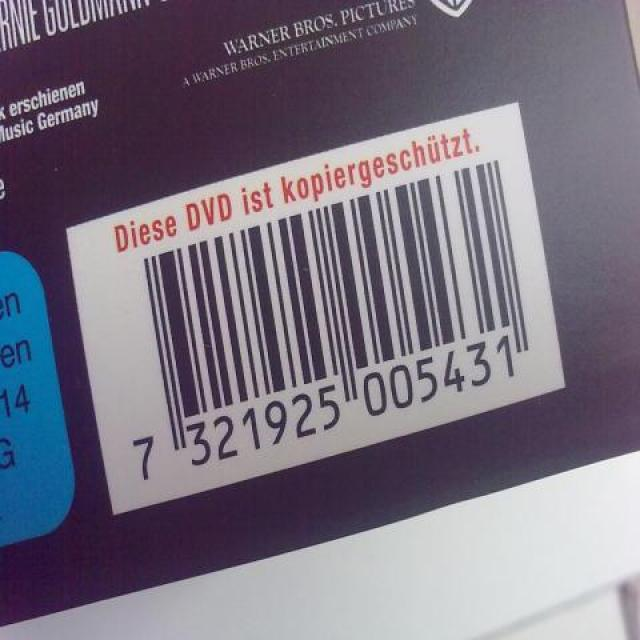Barcode: (65, 99, 566, 517)
